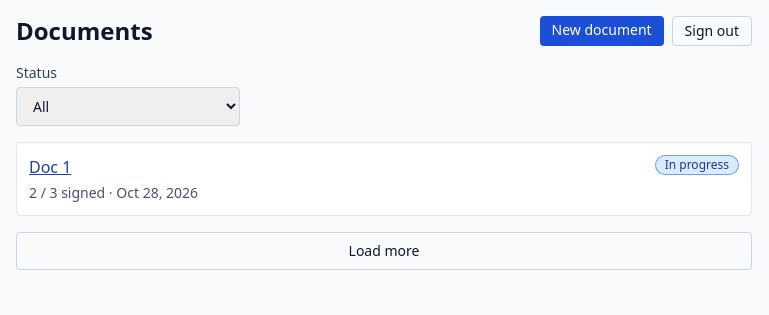
Test: documents list › shows progress and loads more via cursor
The width and height of the screenshot is (769, 315).
Expected: the link "Doc 1" is shown, x1=29 y1=155 x2=71 y2=179
Expected: the text "2 / 3 signed · Oct 28, 2026" is shown, x1=29 y1=183 x2=198 y2=202
What coordinates should you click on to do the following:
click the button "Load more"
I would click on:
 (384, 251)
Its box is x1=16 y1=232 x2=752 y2=270.
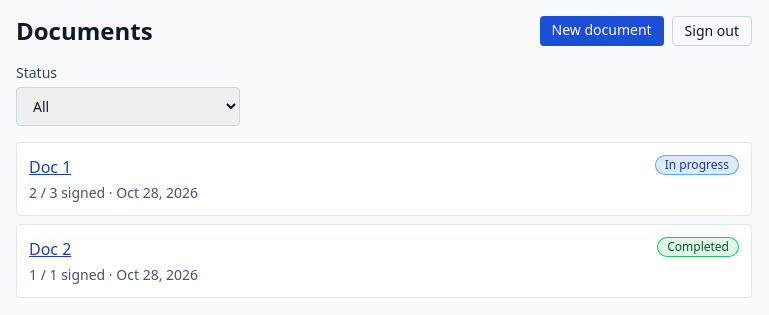
Expected: the link "Doc 1" is shown, x1=29 y1=155 x2=71 y2=179
Expected: the link "Doc 2" is shown, x1=29 y1=237 x2=71 y2=261
Expected: the button "Load more" is gone
